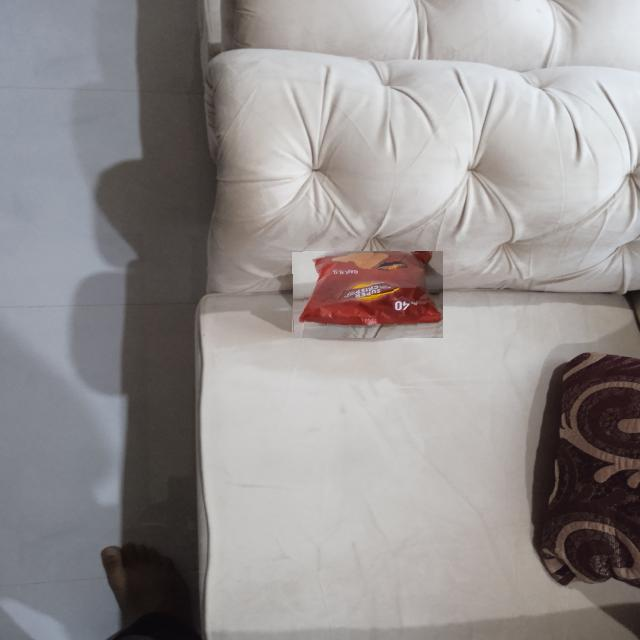Plastic: (291, 251, 443, 338)
